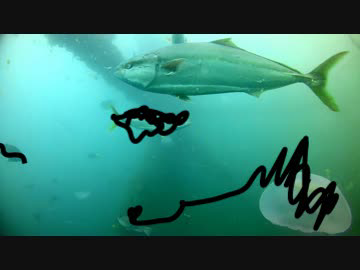hamati: (110, 34, 356, 124)
